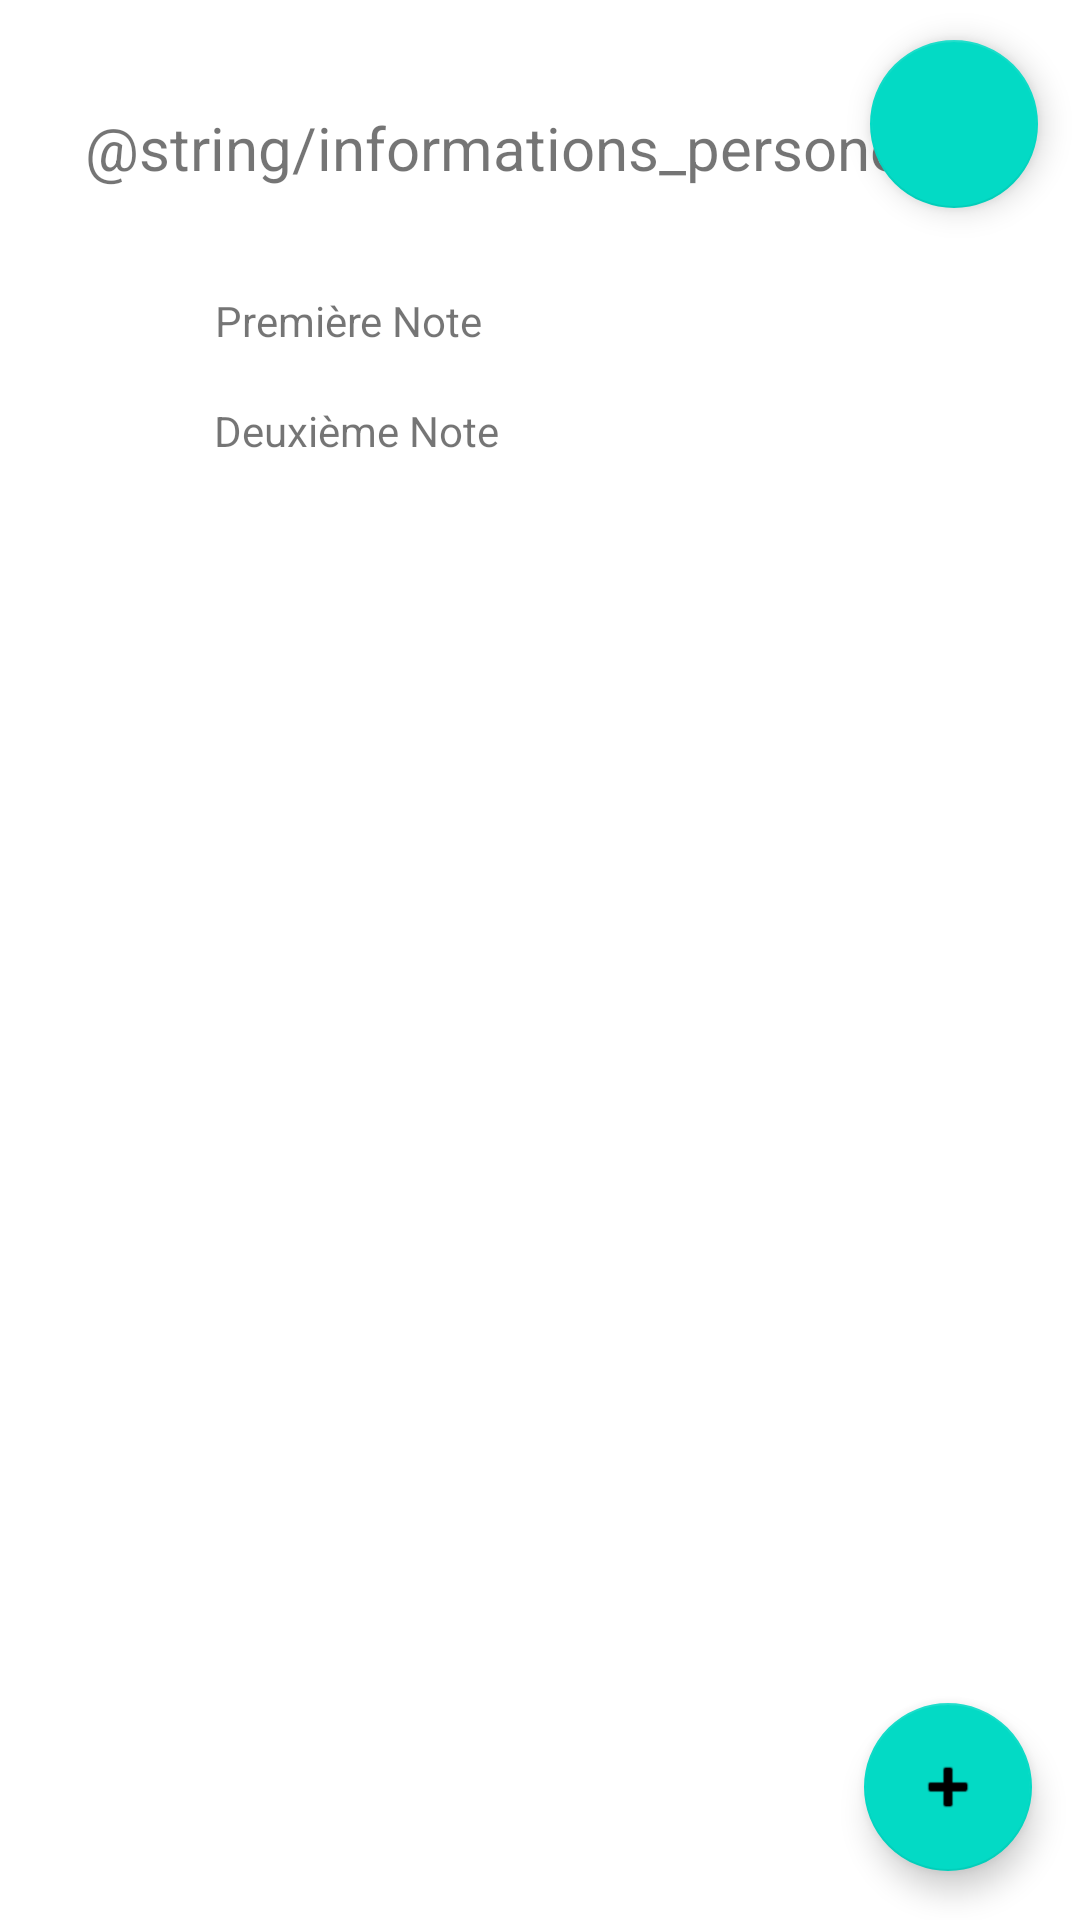

Named icons in this screenshot (1080×1920) and their centers, (x,y):
add: (948,1787)
